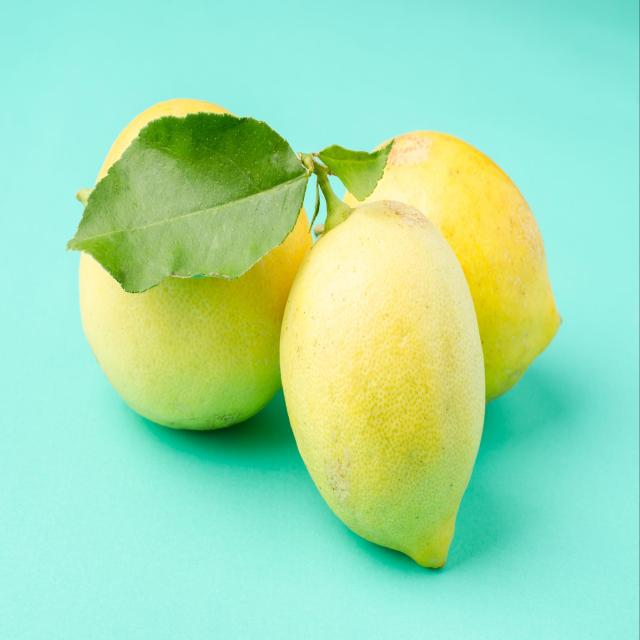lemon: (276, 186, 492, 579)
